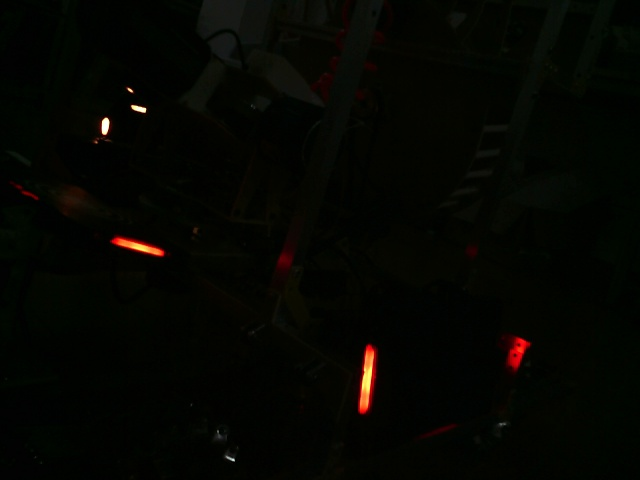lamp: (353, 339, 381, 419)
